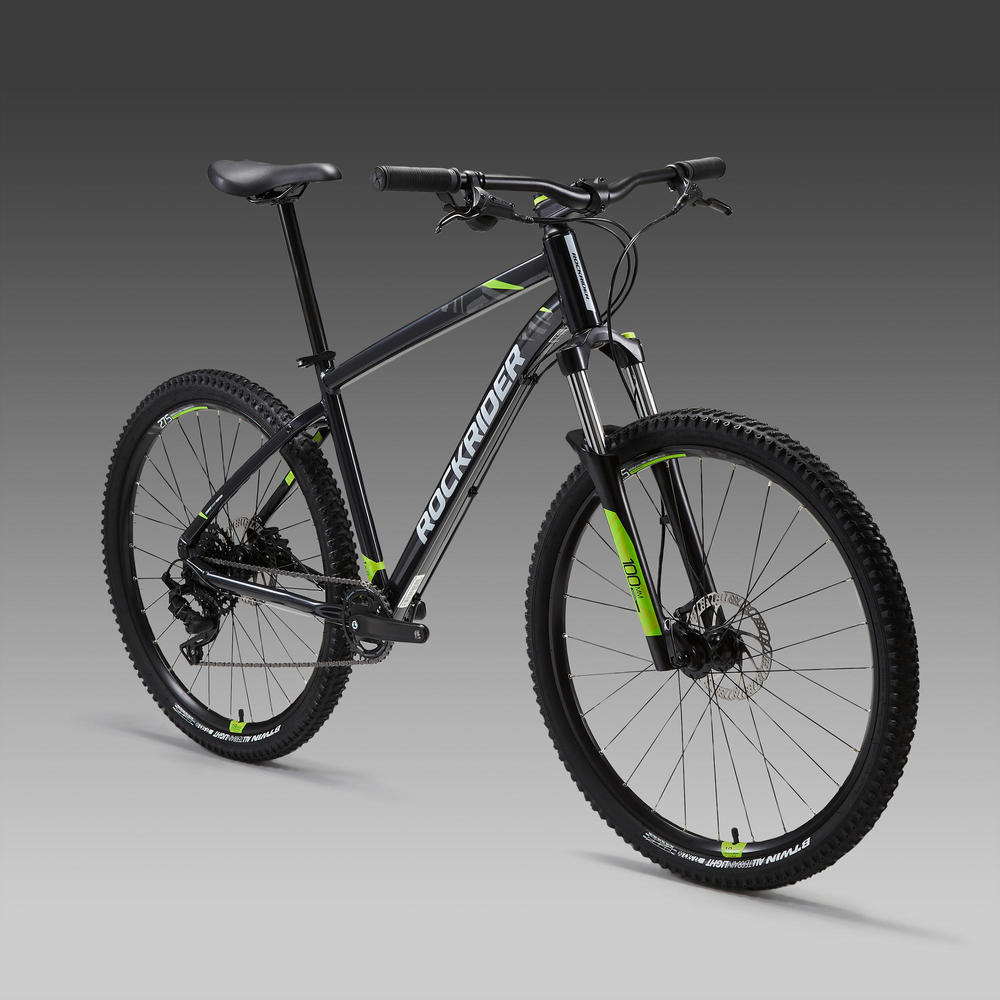MountainBike: (106, 141, 904, 886)
